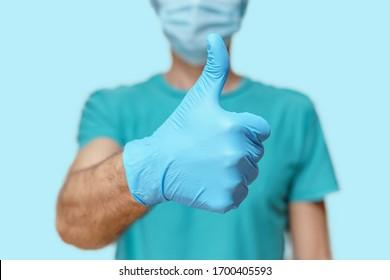gloves: (122, 32, 273, 214)
